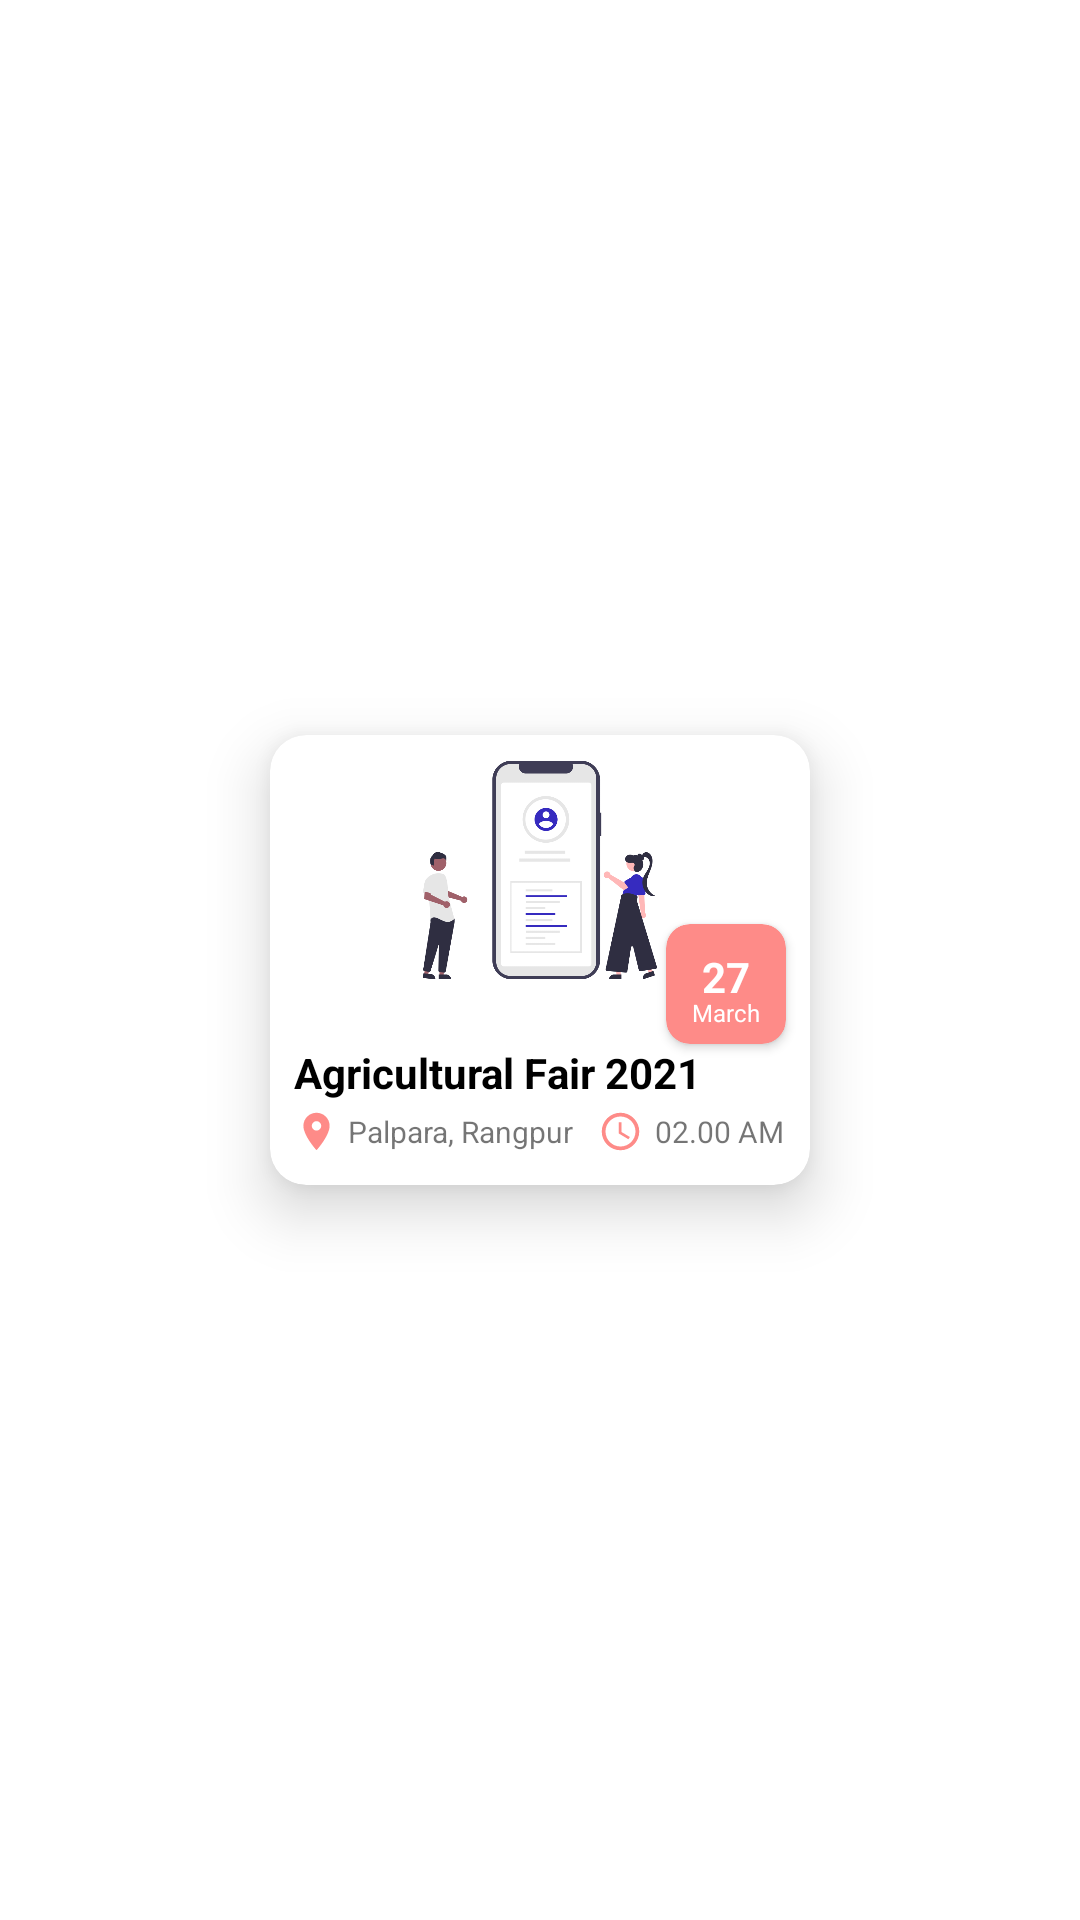

Icon bounding boxes for this 1080 × 1920 phone screenshot, format Rect(x1, y1, x2, y2):
access time: Rect(601, 1112, 640, 1151)
developapp: Rect(423, 761, 657, 979)
location on: Rect(303, 1112, 330, 1150)
